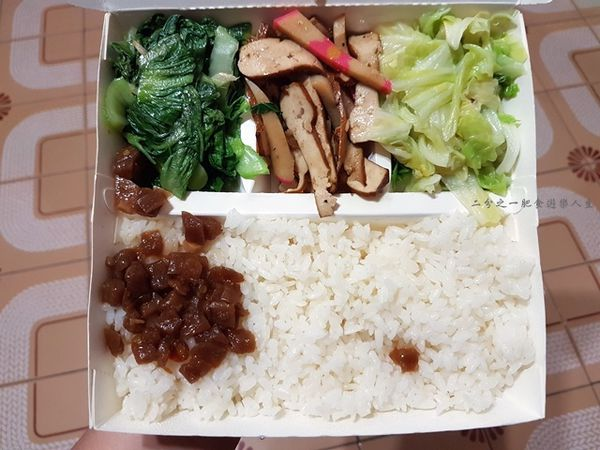rice: (249, 221, 528, 408)
